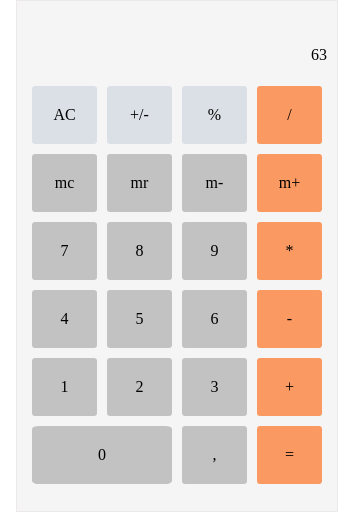
Test: Events Testing › testing functions › add to memory
Click the button "AC".
click(64, 115)  # box [32,86,97,144]
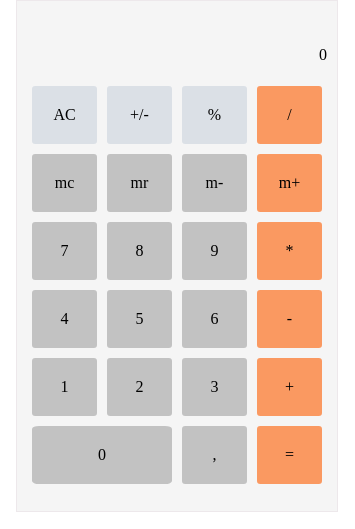
Click the button "7".
click(64, 251)  # box [32,222,97,280]
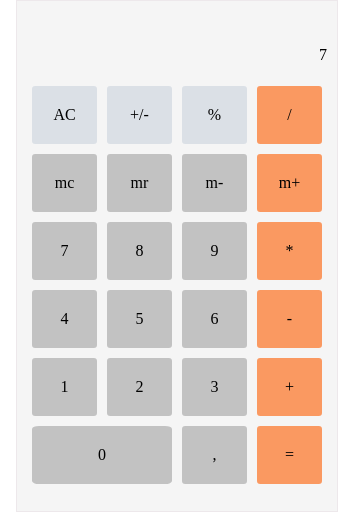
Click the button "m+".
click(290, 183)  # box [257,154,322,212]
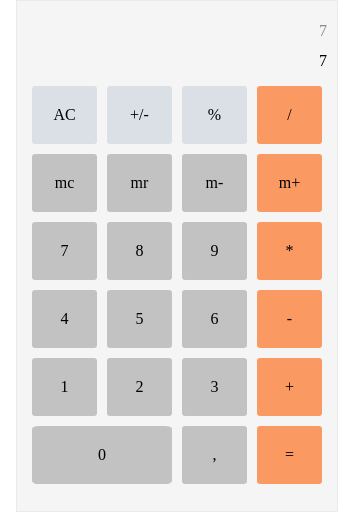
Check: the 2nd element showing "7" is shown, box [319,52,327,70]
Check: the element with class "memory" reads "7", box [319,22,327,39]
